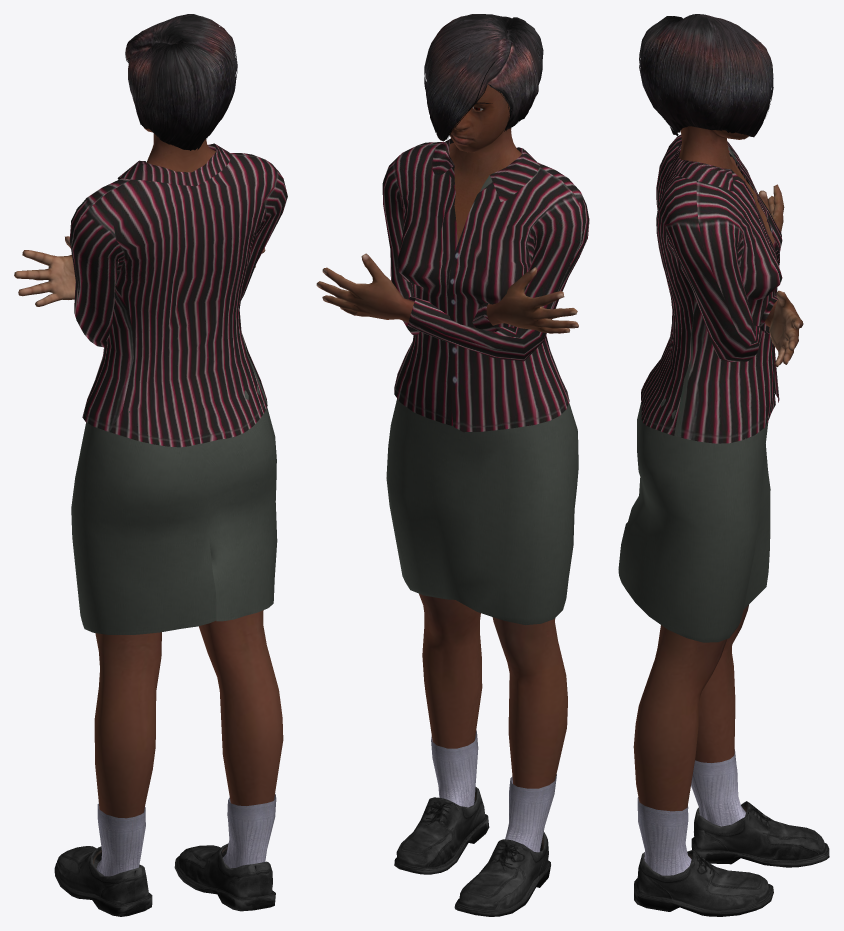
Rendered from arms_crossed_3.gltf.
The picture shows the model from 3 angles, left to right: view 1: azimuth 30°, elevation 25°; view 2: azimuth 150°, elevation 25°; view 3: azimuth 270°, elevation 25°; orthographic projection. The views are drawn at different scales.
Visible parts, largest first — view 1: arms_crossed; view 2: arms_crossed; view 3: arms_crossed.
Boxes of the visible parts, x1,y1,x2,y2 form: arms_crossed: (14, 14, 287, 916); arms_crossed: (316, 14, 589, 916); arms_crossed: (618, 14, 829, 916).
Size of the model in its own units: 0.5745 by 1.85 by 0.4099.
Materials: 6 (6 with a texture image).
